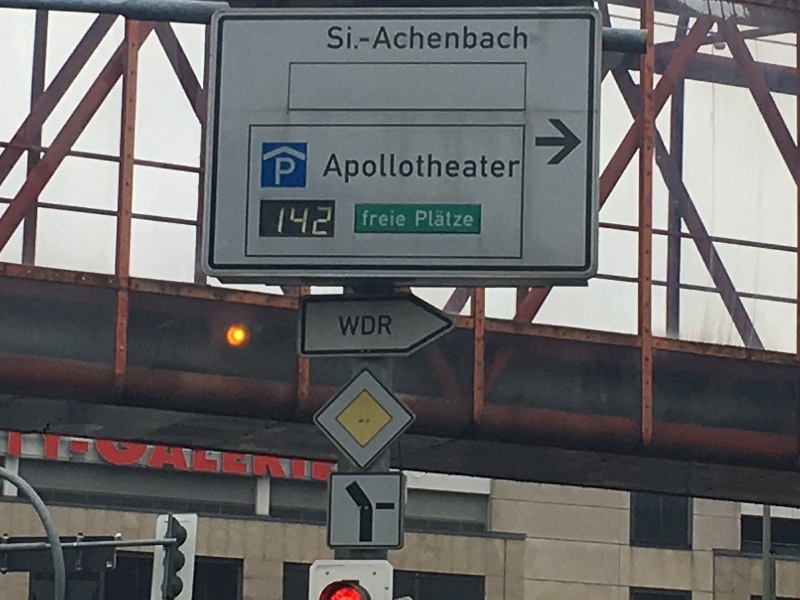text: (289, 206, 304, 237), (305, 206, 320, 237), (337, 154, 352, 184), (353, 154, 368, 184), (369, 154, 384, 184), (385, 154, 400, 184), (401, 154, 416, 184), (417, 154, 432, 184), (433, 154, 448, 184), (449, 154, 464, 184), (465, 154, 480, 184), (481, 154, 496, 184), (497, 154, 512, 184), (513, 25, 529, 51), (337, 25, 352, 51), (353, 25, 368, 51), (369, 25, 384, 51), (385, 25, 400, 51), (401, 25, 416, 51), (417, 25, 432, 51), (433, 25, 448, 51), (449, 25, 464, 51), (465, 25, 480, 51), (481, 25, 496, 51), (497, 25, 512, 51), (321, 206, 332, 237), (277, 157, 288, 185), (353, 316, 368, 336), (369, 316, 384, 336), (417, 210, 432, 228), (433, 210, 448, 228), (449, 210, 464, 228), (339, 316, 352, 336), (369, 210, 384, 227), (385, 210, 400, 227), (281, 206, 288, 237), (513, 154, 520, 184), (329, 25, 336, 51), (289, 157, 295, 185), (331, 154, 336, 184), (465, 210, 473, 228), (385, 316, 391, 336), (363, 210, 368, 227), (401, 210, 406, 227)
